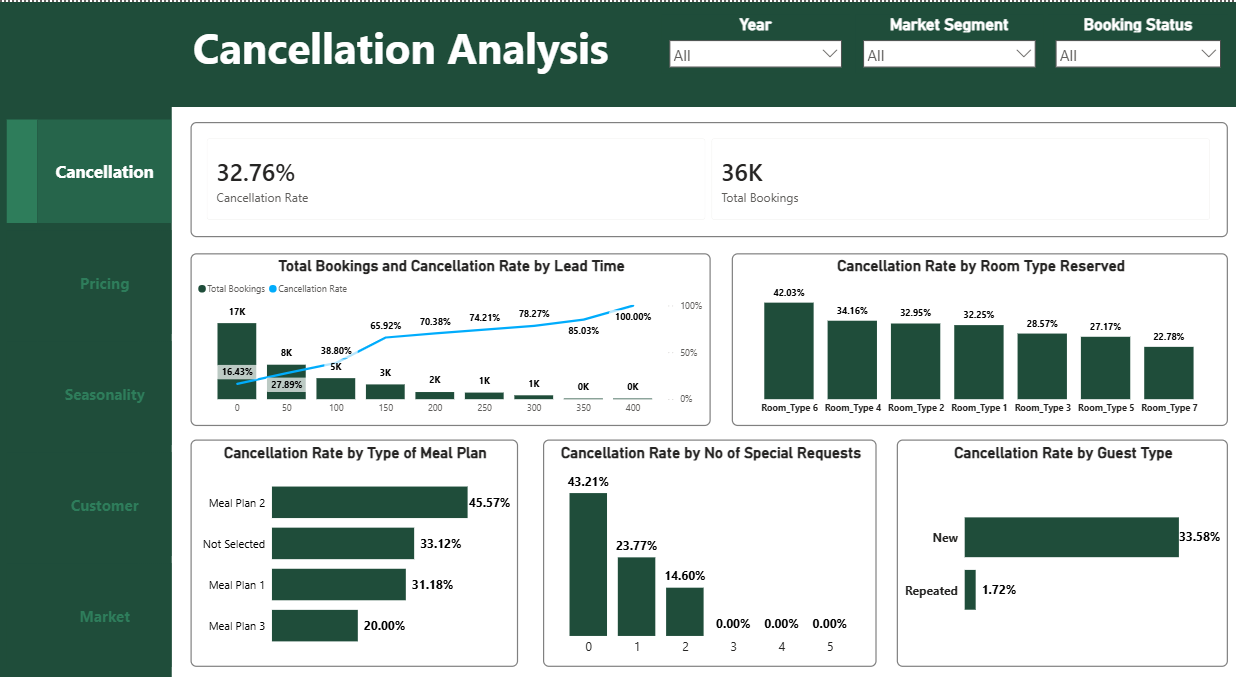

The page's visual inventory and layout, read from the dashboard file:
{"tool":"powerbi","page":{"name":"Cancellation ","canvas":[1650,900],"ordinal":0},"visuals":[{"type":"lineStackedColumnComboChart","title":"Total Bookings and Cancellation Rate by Lead Time ","fields":{"Category":["Hotel Reservations.lead_time (bins)"],"Y2":["Measure.Cancellation Rate"],"Y":["Measure.Total Bookings"]},"box":[256.7,335,693.3,230],"z":0},{"type":"cardVisual","fields":{"Data":["Measure.Cancellation Rate","Measure.Total Bookings"]},"box":[256.7,160,1383.3,153.3],"z":1000},{"type":"clusteredColumnChart","title":"Cancellation Rate by Room Type Reserved","fields":{"Category":["Room.room_type_reserved"],"Y":["Measure.Cancellation Rate"]},"box":[978.3,335,661.7,230],"z":2000},{"type":"clusteredBarChart","title":"Cancellation Rate by Type of Meal Plan","fields":{"Category":["Meal.type_of_meal_plan"],"Y":["Measure.Cancellation Rate"]},"box":[256.7,583.3,436.7,303.3],"z":3000},{"type":"clusteredBarChart","fields":{"Category":["Repeated Guest.Guest Type"],"Y":["Measure.Cancellation Rate"]},"box":[1198.3,583.3,441.7,303.3],"z":4000},{"type":"clusteredColumnChart","title":"Cancellation Rate by No of Special Requests","fields":{"Y":["Measure.Cancellation Rate"],"Category":["Hotel Reservations.no_of_special_requests"]},"box":[726.7,583.3,445,303.3],"z":5000},{"type":"shape","box":[178.3,0,1485,140],"z":6000},{"type":"shape","box":[0,0,231.7,900],"z":7000},{"type":"pageNavigator","box":[53.3,156.7,178.3,730],"z":8000},{"type":"pageNavigator","box":[11.7,156.7,41.7,730],"z":9000},{"type":"textbox","box":[255,16.7,693.3,105],"z":10000},{"type":"slicer","title":"Year","fields":{"Values":["Date.Year"]},"box":[885,16.7,250,78.3],"z":11000},{"type":"slicer","title":"Market Segment","fields":{"Values":["Market.market_segment_type"]},"box":[1142.5,16.7,250,78.3],"z":12000},{"type":"slicer","title":"Booking Status","fields":{"Values":["Booking Status.booking_status"]},"box":[1400,16.7,240,78.3],"z":13000}]}

Visuals, with their boxes in screenshot pixels (x1, y1, x2, y2), scaled from the page's 1650x900 canvas onto the 1236x677 screenshot:
"Total Bookings and Cancellation Rate by Lead Time " lineStackedColumnComboChart: select_region(192, 252, 712, 425)
cardVisual - Measure.Cancellation Rate x Measure.Total Bookings: select_region(192, 120, 1229, 236)
"Cancellation Rate by Room Type Reserved" clusteredColumnChart: select_region(733, 252, 1229, 425)
"Cancellation Rate by Type of Meal Plan" clusteredBarChart: select_region(192, 439, 519, 667)
clusteredBarChart - Repeated Guest.Guest Type x Measure.Cancellation Rate: select_region(898, 439, 1229, 667)
"Cancellation Rate by No of Special Requests" clusteredColumnChart: select_region(544, 439, 878, 667)
shape: select_region(134, 0, 1235, 105)
shape: select_region(0, 0, 174, 676)
pageNavigator: select_region(40, 118, 173, 667)
pageNavigator: select_region(9, 118, 40, 667)
textbox: select_region(191, 13, 710, 92)
"Year" slicer: select_region(663, 13, 850, 71)
"Market Segment" slicer: select_region(856, 13, 1043, 71)
"Booking Status" slicer: select_region(1049, 13, 1229, 71)
